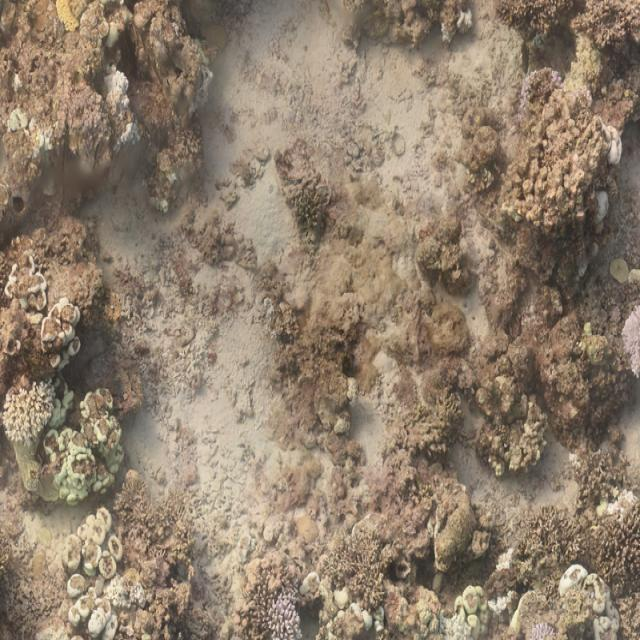Bleached Coral: (100, 67, 144, 151), (0, 376, 57, 429), (508, 60, 568, 109), (266, 589, 305, 640), (613, 306, 640, 376), (524, 601, 561, 640)
